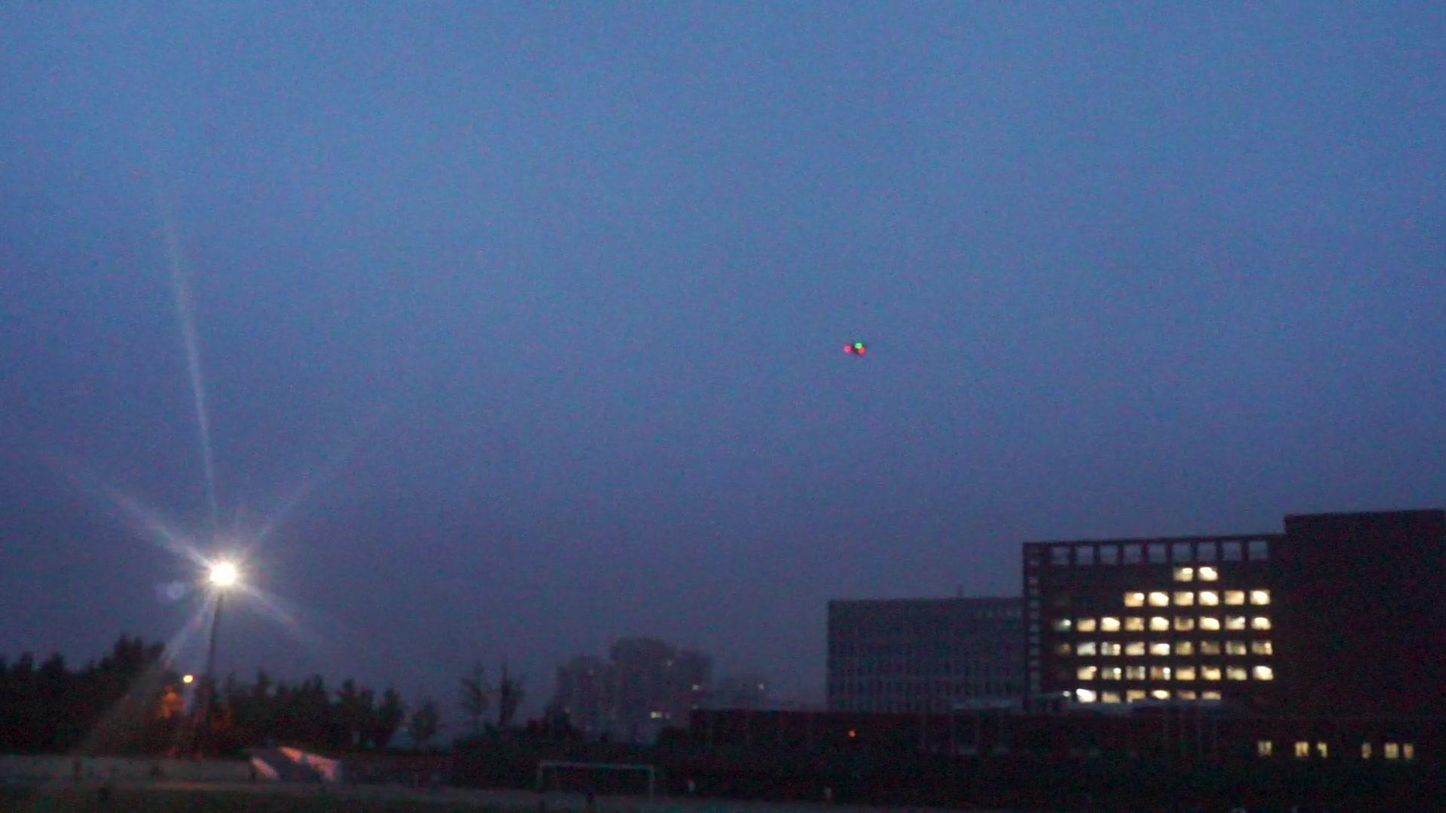UAV: (844, 342, 868, 355)
